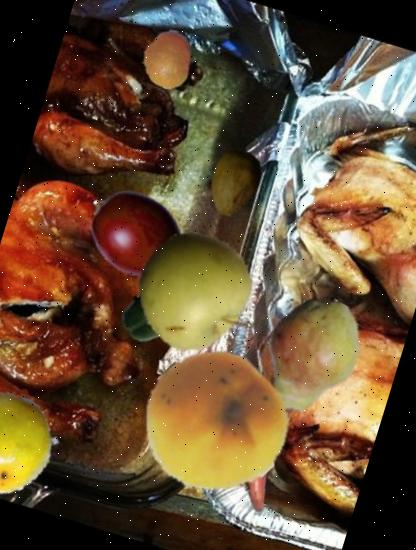Apple: (121, 216, 272, 368)
Banana: (224, 454, 288, 518)
Mandarine: (131, 22, 205, 97)
Maracuja: (0, 376, 70, 505)
Papaya: (190, 139, 278, 226)
Peach: (124, 334, 305, 514)
Pear: (226, 276, 390, 442)
Pepper: (114, 278, 190, 354)
Tamarillo: (70, 167, 204, 301)
